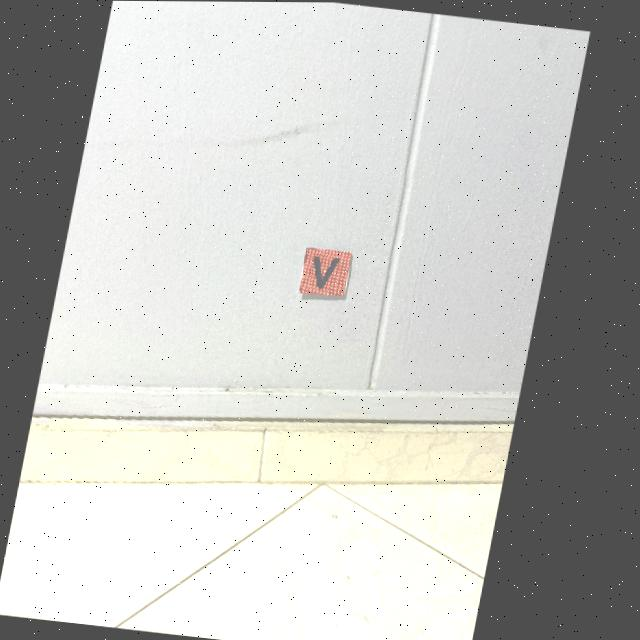V: (319, 255, 345, 288)
